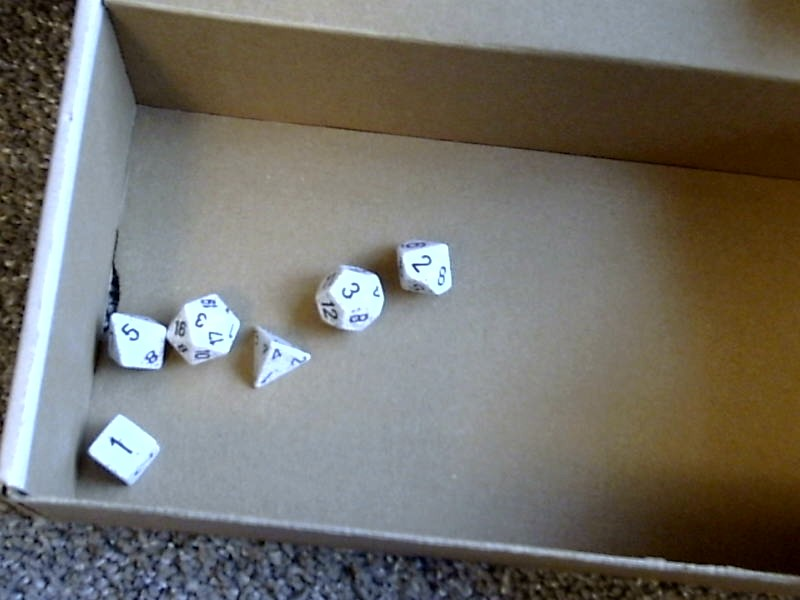d10 2: (392, 235, 459, 299)
d12 3: (307, 261, 390, 336)
d20 3: (165, 289, 244, 371)
d4 4: (246, 324, 317, 393)
d6 1: (81, 411, 162, 491)
d8 5: (94, 294, 167, 384)
